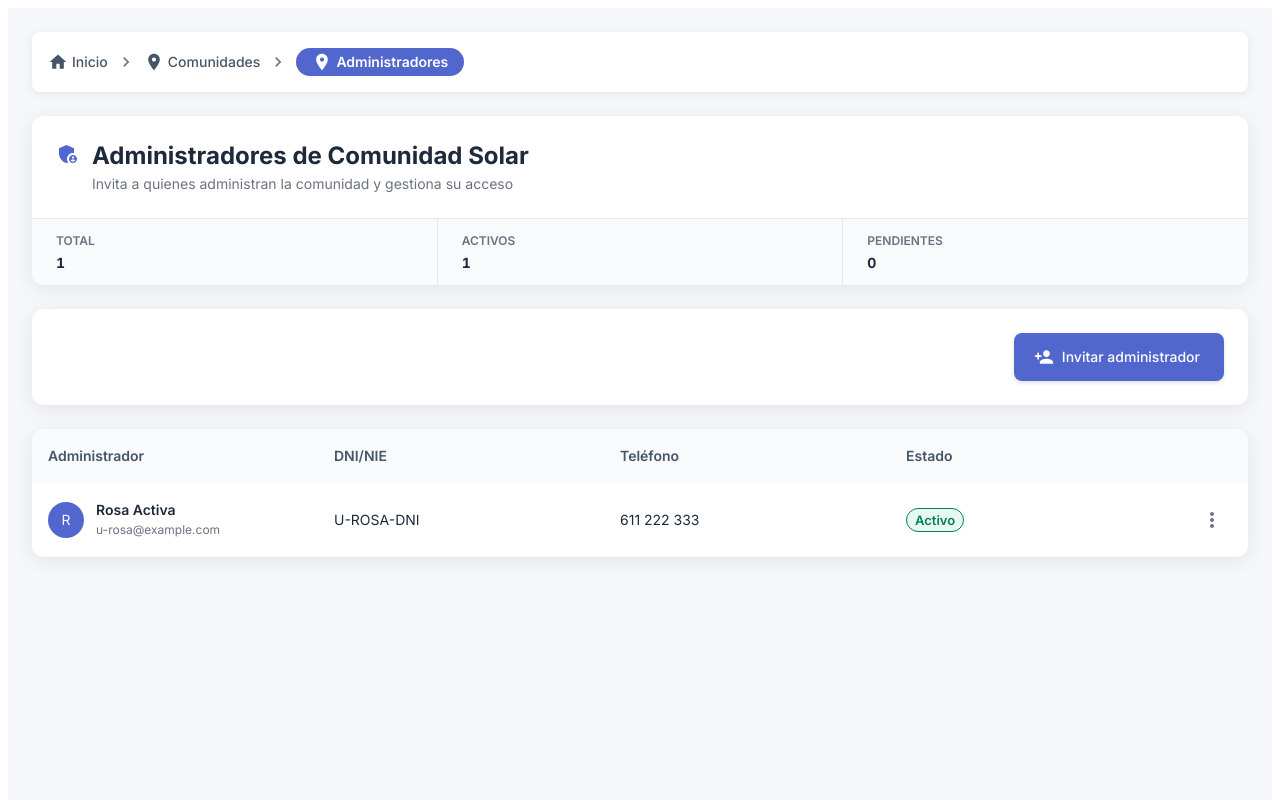
Scenario: inviting an admin › UI-ADM-003 sends the whole invitation, and the list then shows the new admin with the invitation sent
Click the button "Invitar administrador": coordinates (1119, 357) [1014,333,1224,382]
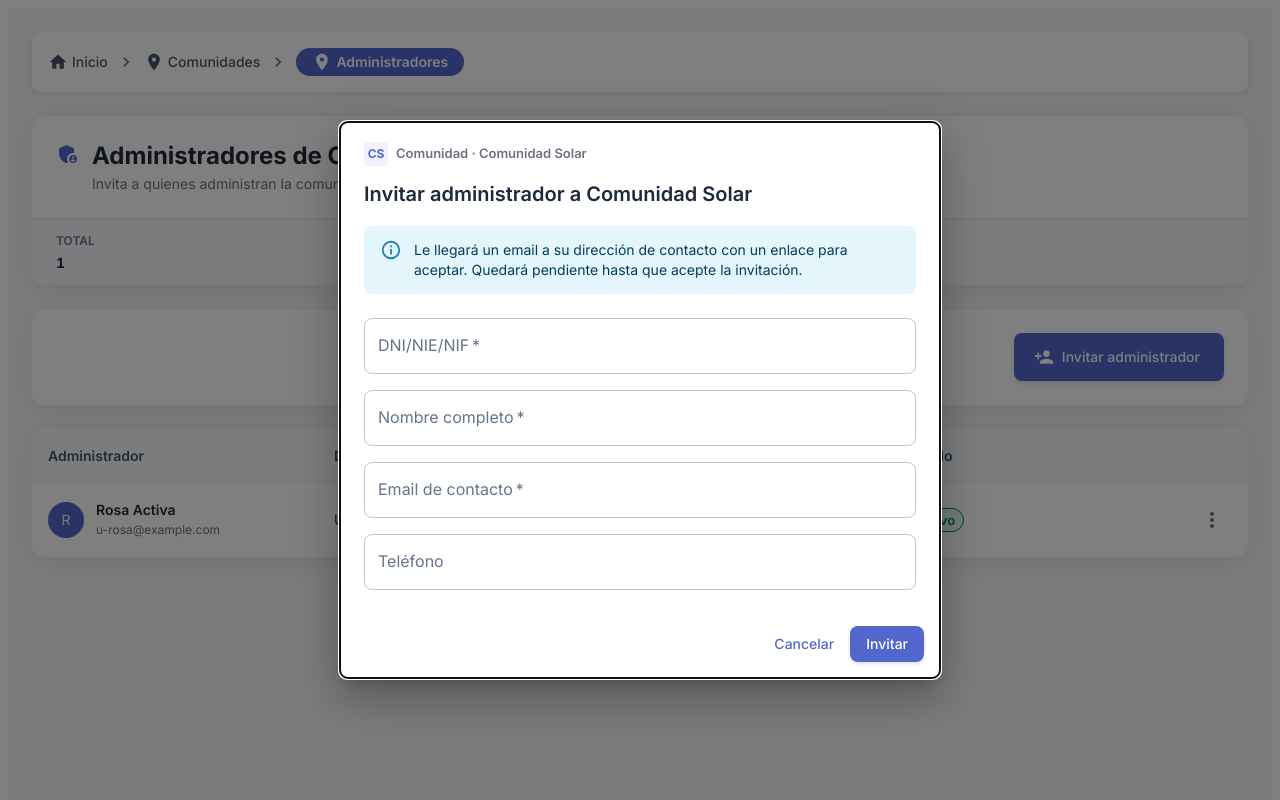
In the field labelled "DNI/NIE/NIF *": coordinates (640, 346) [364,318,916,374], type "12.345.678-z"
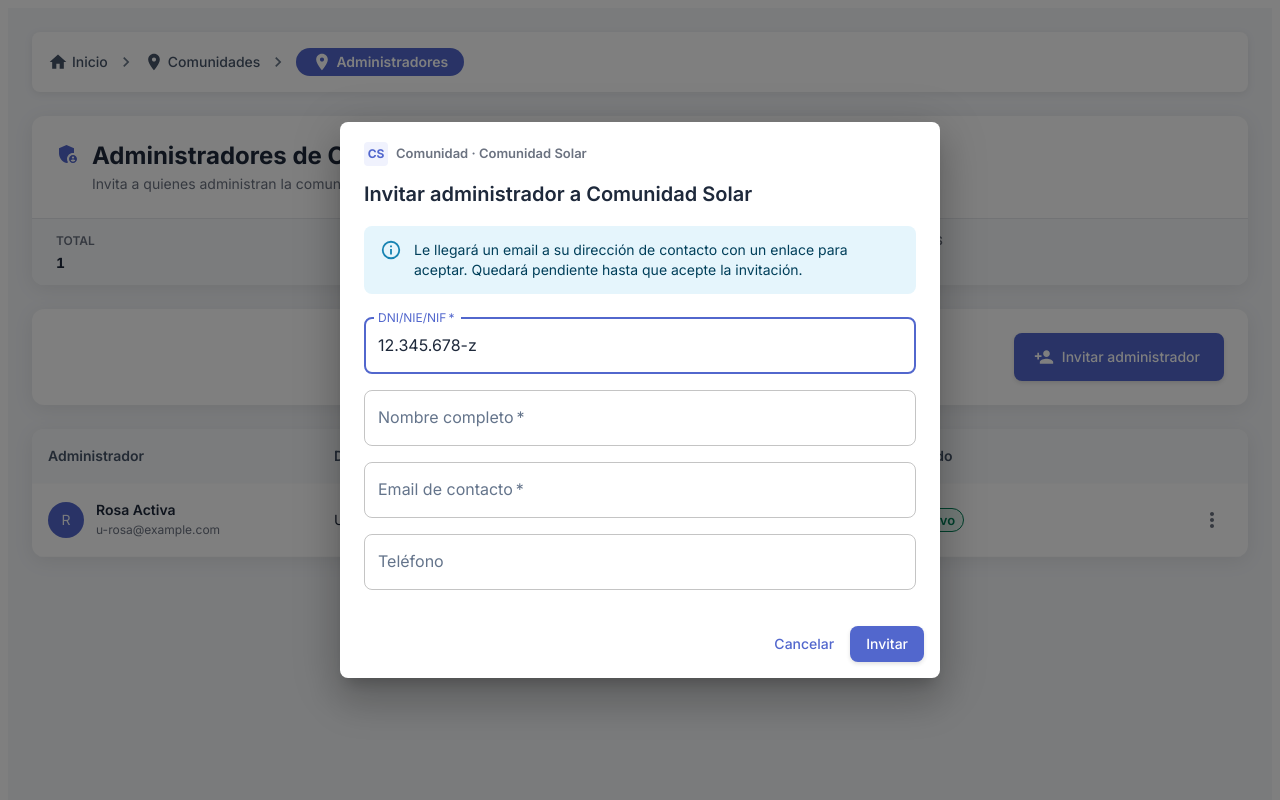
In the field labelled "Nombre completo *": coordinates (640, 418) [364,390,916,446], type "Nora Nueva"
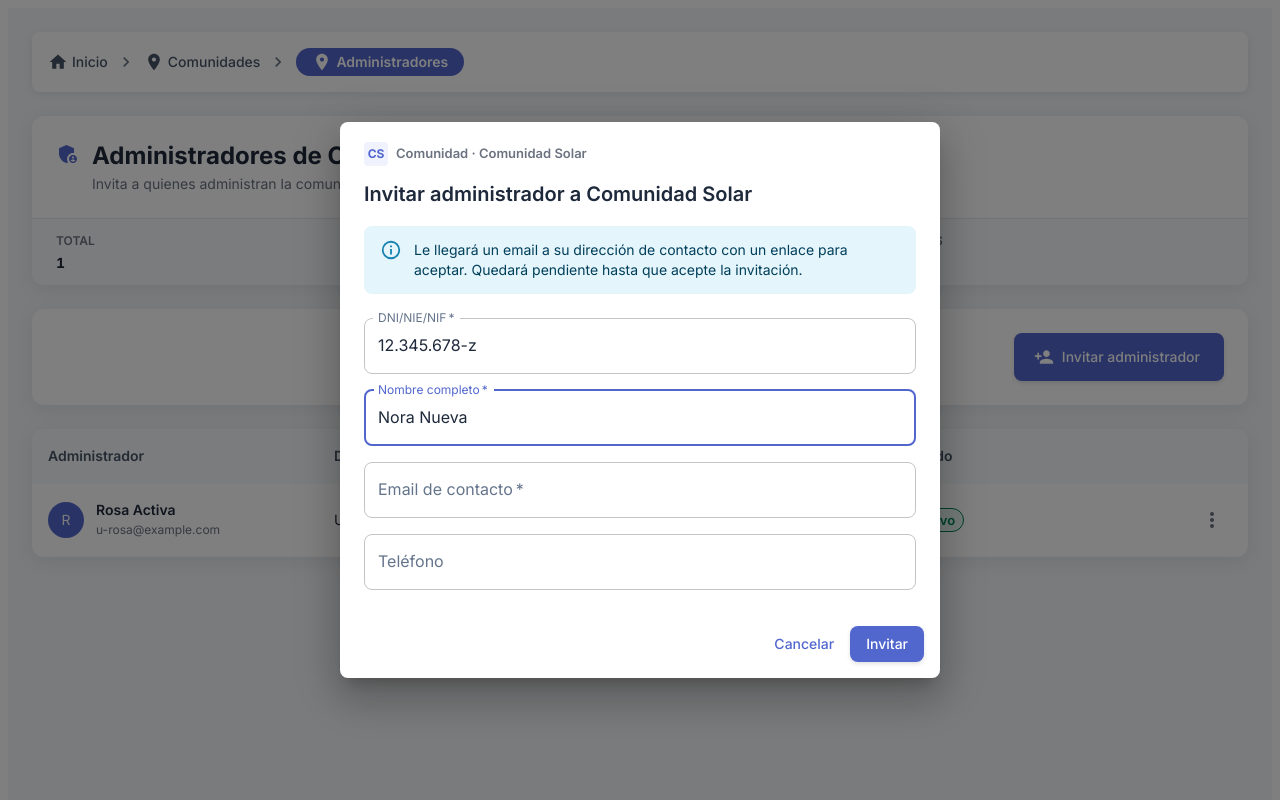
In the field labelled "Email de contacto *": coordinates (640, 490) [364,462,916,518], type "nora@example.com"
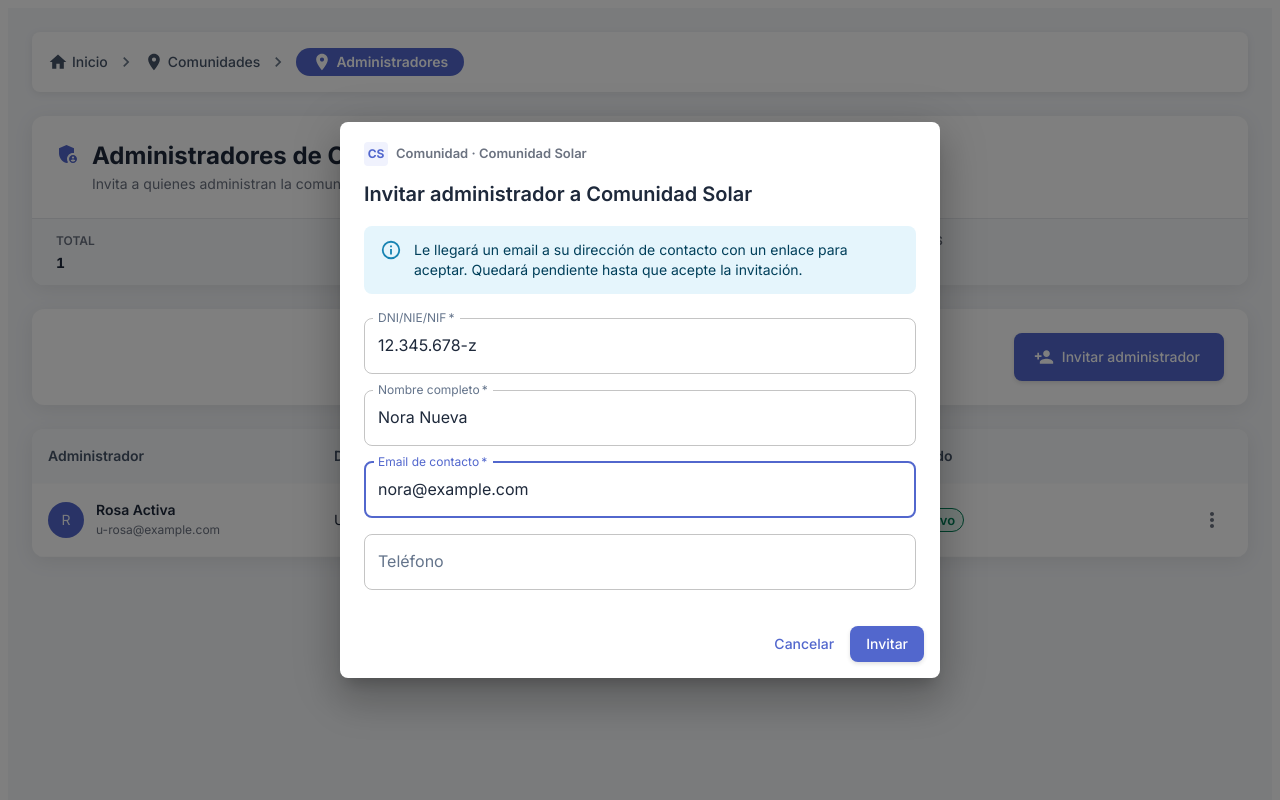
In the field labelled "Teléfono": coordinates (640, 562) [364,534,916,590], type "622 333 444"
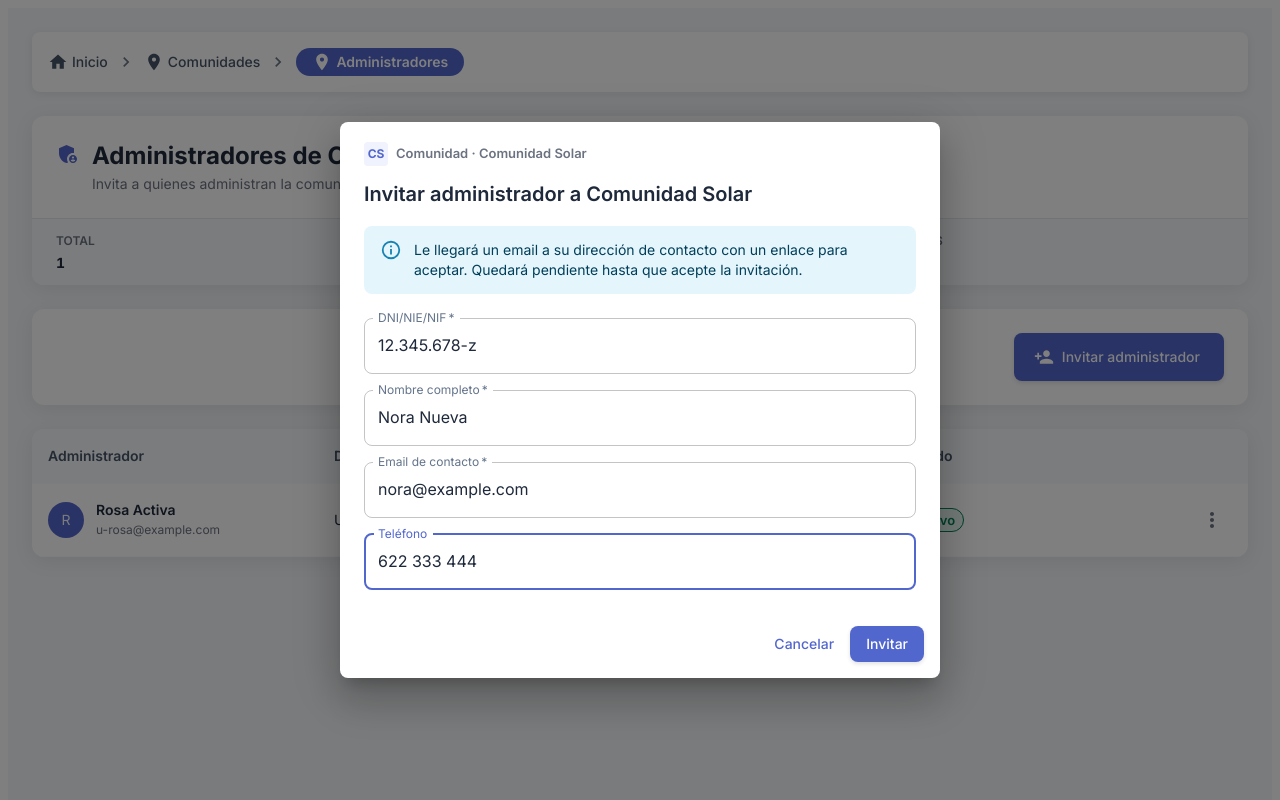
Click the button "Invitar": coordinates (887, 644) [850,626,924,662]
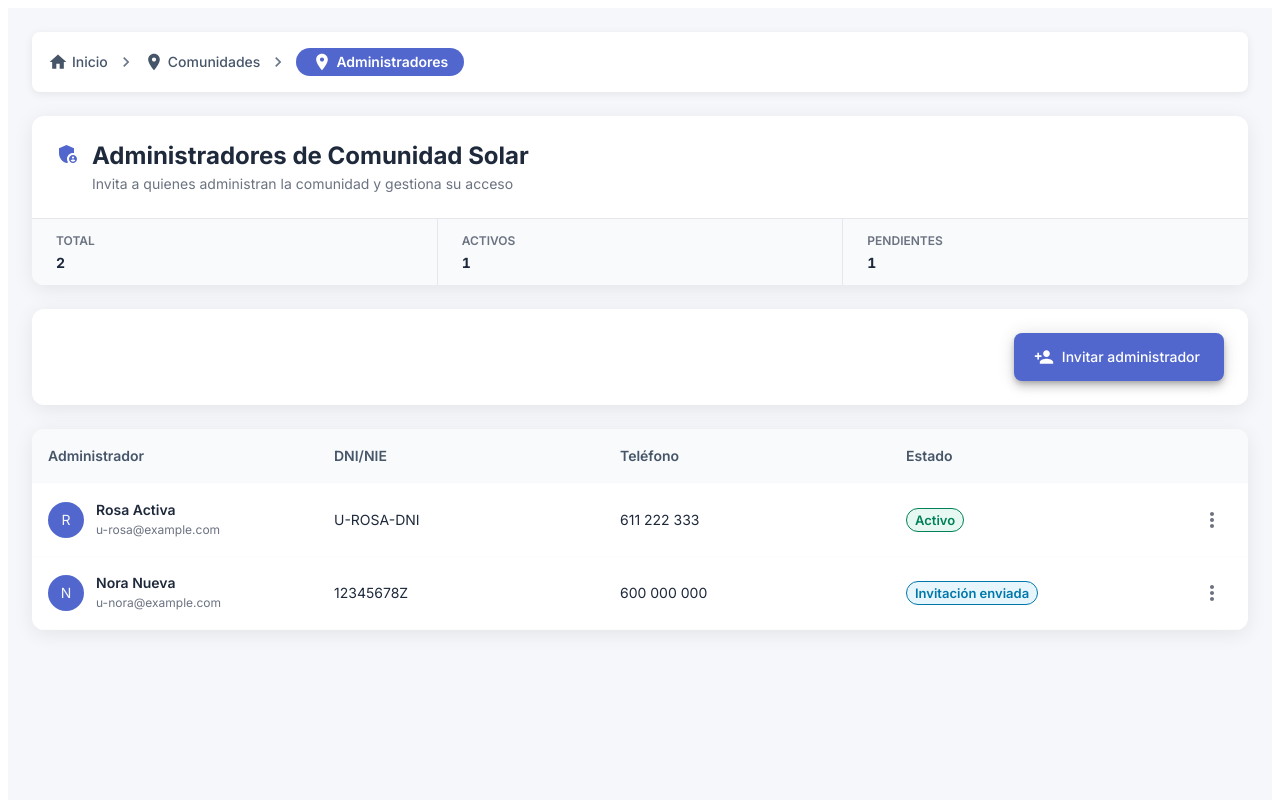
Now the dialog is gone
Now the text "Nora Nueva" is shown, box [96,574,176,591]
Now the text "Invitación enviada" is shown, box [907,584,1037,603]
